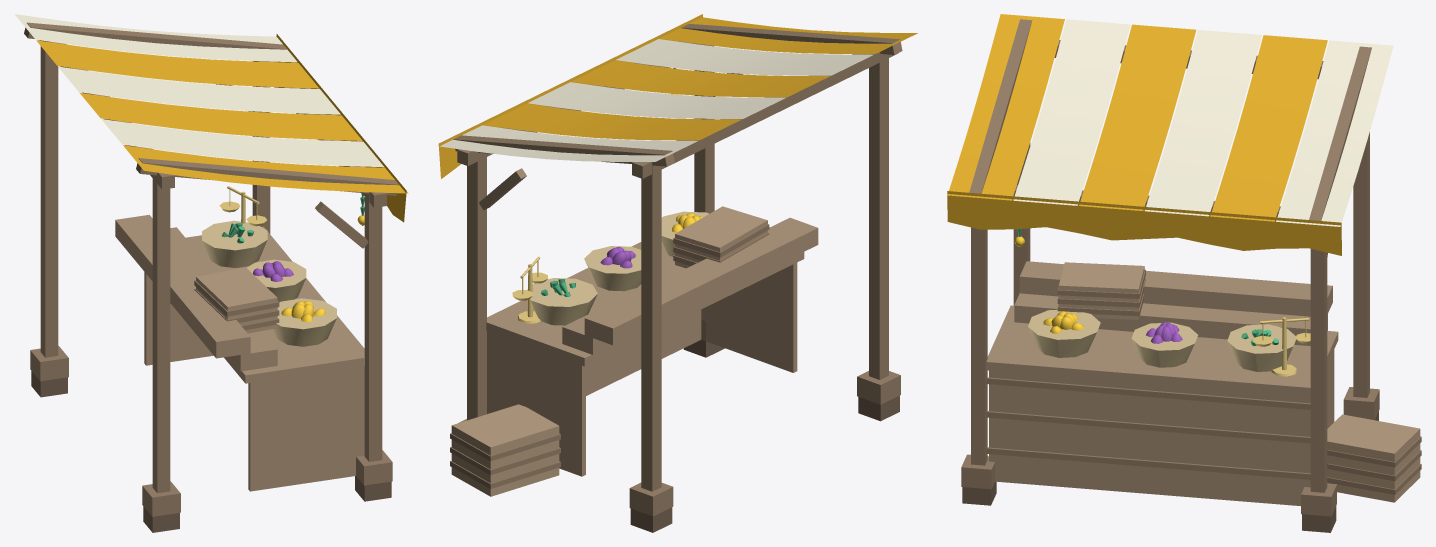
Rendered from south_indian_village_market_stall.glb.
The picture shows the model from 3 angles, left to right: view 1: azimuth 30°, elevation 25°; view 2: azimuth 150°, elevation 25°; view 3: azimuth 270°, elevation 25°; orthographic projection. The views are drawn at different scales.
Visible parts, largest first — view 1: Stall_Striped_Cloth_Canopy, Stall_Sales_Counter_Assembly, Post_Rear_Left, Post_Rear_Right, Post_Front_Left, Stall_Timber_Structural_Frame, Wooden_Shipping_Crate_1, Produce_Basket_chilis, Produce_Basket_mangoes, Produce_Basket_brinjals, Front_Scalloped_Valance_Fringe, Post_Front_Right (+1 smaller); view 2: Stall_Sales_Counter_Assembly, Stall_Striped_Cloth_Canopy, Post_Rear_Right, Post_Rear_Left, Stall_Timber_Structural_Frame, Wooden_Shipping_Crate_2, Post_Front_Right, Wooden_Shipping_Crate_1, Produce_Basket_chilis, Produce_Basket_brinjals, Post_Front_Left, Front_Scalloped_Valance_Fringe (+2 smaller); view 3: Stall_Striped_Cloth_Canopy, Stall_Sales_Counter_Assembly, Front_Scalloped_Valance_Fringe, Wooden_Shipping_Crate_2, Post_Front_Right, Post_Front_Left, Stall_Timber_Structural_Frame, Post_Rear_Right, Wooden_Shipping_Crate_1, Produce_Basket_mangoes, Produce_Basket_brinjals, Produce_Basket_chilis (+2 smaller).
Part boxes in pixels (left/top/right/bottom): Stall_Striped_Cloth_Canopy: left=14, top=14, right=408, bottom=193; Stall_Sales_Counter_Assembly: left=115, top=214, right=364, bottom=491; Post_Rear_Left: left=142, top=173, right=180, bottom=532; Post_Rear_Right: left=30, top=40, right=68, bottom=397; Post_Front_Left: left=355, top=192, right=392, bottom=501; Stall_Timber_Structural_Frame: left=24, top=22, right=398, bottom=248; Wooden_Shipping_Crate_1: left=194, top=267, right=279, bottom=333; Produce_Basket_chilis: left=202, top=220, right=267, bottom=267; Produce_Basket_mangoes: left=273, top=298, right=336, bottom=346; Produce_Basket_brinjals: left=247, top=259, right=306, bottom=302; Front_Scalloped_Valance_Fringe: left=276, top=34, right=406, bottom=222; Post_Front_Right: left=252, top=61, right=270, bottom=233; Stall_Sales_Counter_Assembly: left=486, top=217, right=818, bottom=476; Stall_Striped_Cloth_Canopy: left=437, top=17, right=917, bottom=161; Post_Rear_Right: left=629, top=162, right=673, bottom=532; Post_Rear_Left: left=857, top=52, right=900, bottom=421; Stall_Timber_Structural_Frame: left=453, top=23, right=902, bottom=210; Wooden_Shipping_Crate_2: left=450, top=404, right=560, bottom=496; Post_Front_Right: left=458, top=152, right=486, bottom=423; Wooden_Shipping_Crate_1: left=673, top=206, right=769, bottom=268; Produce_Basket_chilis: left=527, top=278, right=597, bottom=325; Produce_Basket_brinjals: left=584, top=246, right=641, bottom=291; Post_Front_Left: left=683, top=44, right=724, bottom=357; Front_Scalloped_Valance_Fringe: left=438, top=14, right=702, bottom=178; Stall_Striped_Cloth_Canopy: left=947, top=14, right=1393, bottom=226; Stall_Sales_Counter_Assembly: left=986, top=261, right=1338, bottom=505; Front_Scalloped_Valance_Fringe: left=947, top=191, right=1341, bottom=255; Wooden_Shipping_Crate_2: left=1327, top=414, right=1421, bottom=502; Post_Front_Right: left=1301, top=249, right=1336, bottom=532; Post_Front_Left: left=961, top=227, right=996, bottom=505; Stall_Timber_Structural_Frame: left=969, top=19, right=1371, bottom=256; Post_Rear_Right: left=1343, top=132, right=1379, bottom=420; Wooden_Shipping_Crate_1: left=1057, top=262, right=1145, bottom=319; Produce_Basket_mangoes: left=1028, top=309, right=1100, bottom=357; Produce_Basket_brinjals: left=1131, top=322, right=1197, bottom=367; Produce_Basket_chilis: left=1227, top=324, right=1296, bottom=371.
Size of the model in its own units: 2.3 by 2.68 by 3.07.
